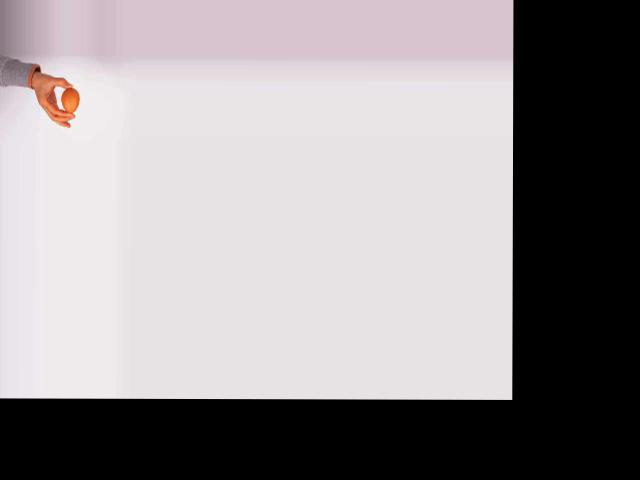egg: (62, 88, 80, 113)
